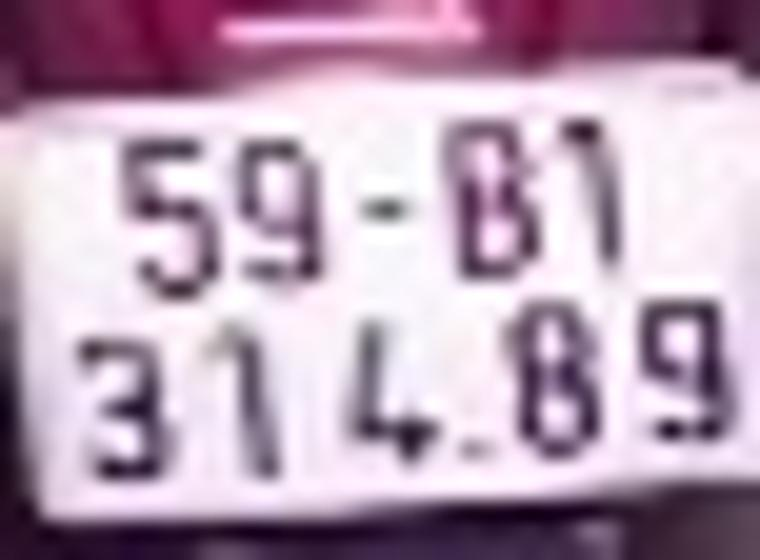-: (354, 198, 416, 227)
.: (448, 422, 494, 474)
1: (210, 314, 296, 491), (566, 105, 629, 275)
3: (82, 327, 178, 483)
4: (334, 307, 444, 467)
6: (113, 127, 222, 304)
8: (508, 292, 607, 463)
9: (233, 129, 334, 297), (634, 286, 734, 447)
B: (447, 109, 547, 294)
